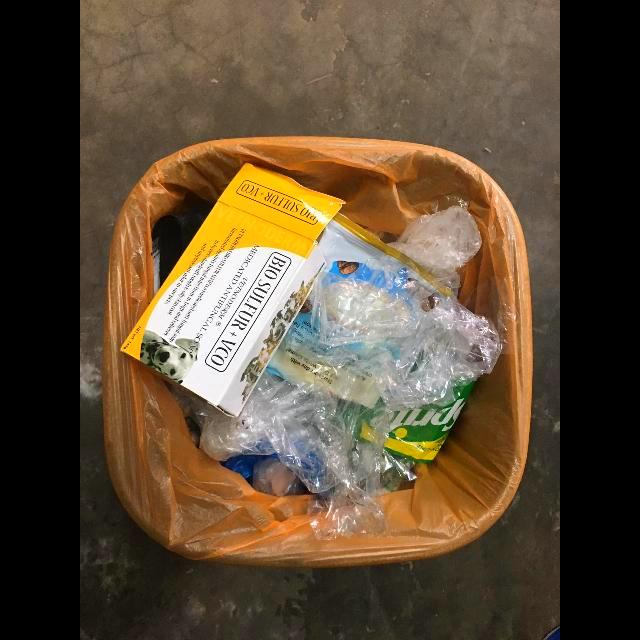cardboard: (120, 162, 344, 419)
plastic_bag: (288, 264, 501, 412), (178, 372, 416, 502), (386, 206, 482, 297)
